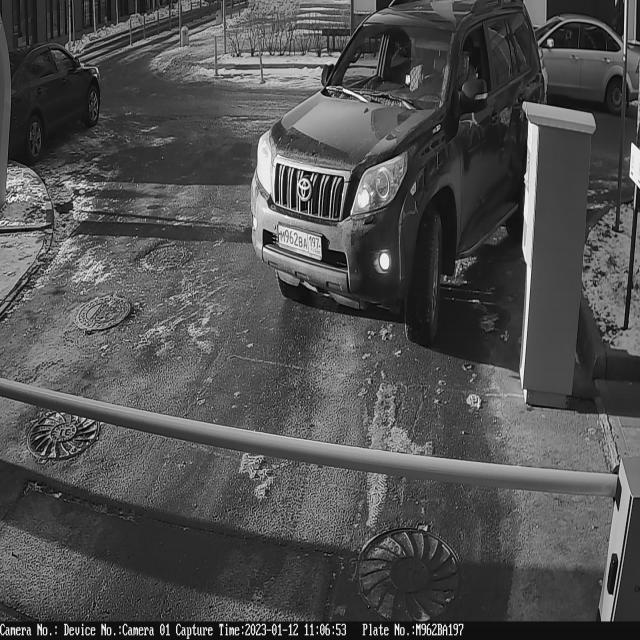car-plate-numbers: (274, 216, 329, 267)
